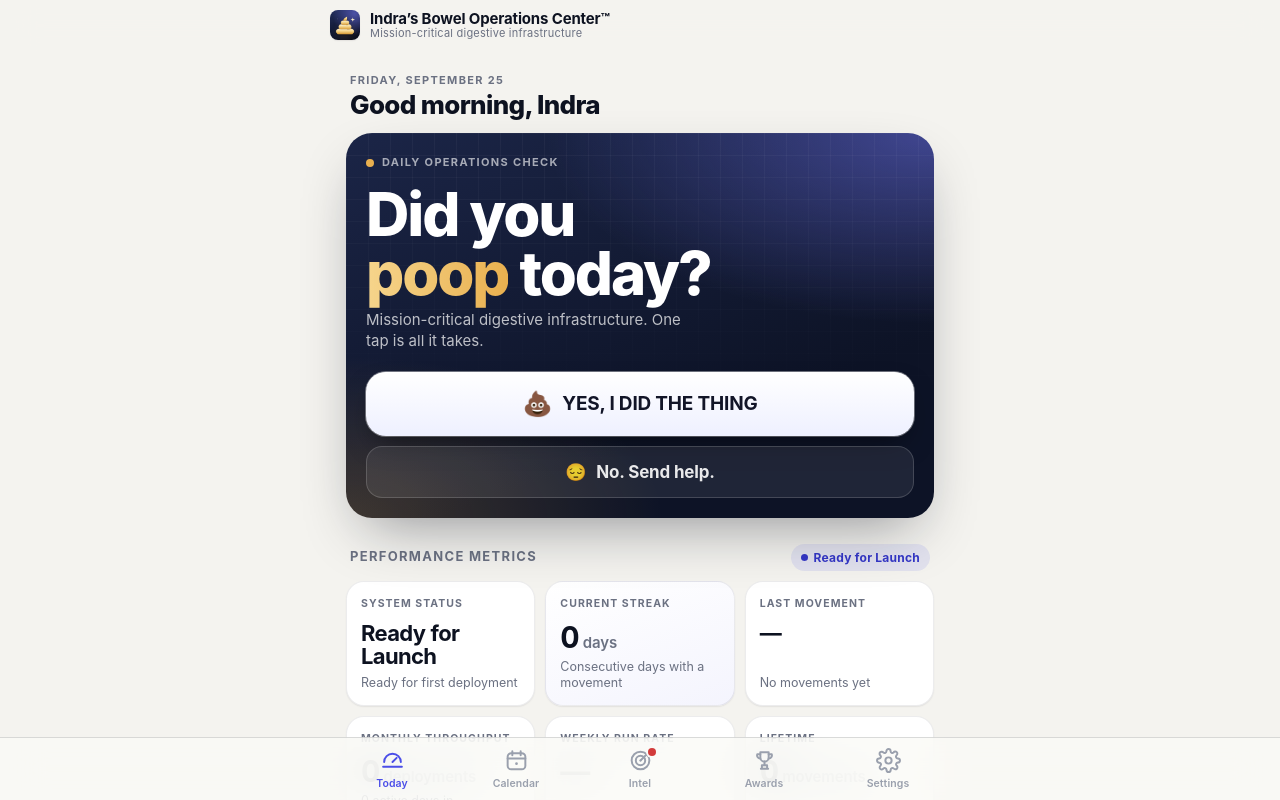
Test: Intel, Archive and Awards › shows the Intelligence Division briefing and the archive with classified entries
This screenshot has width=1280, height=800.
Click the button "💩 YES, I DID THE THING": coordinates (640, 404) [366,372,914,436]
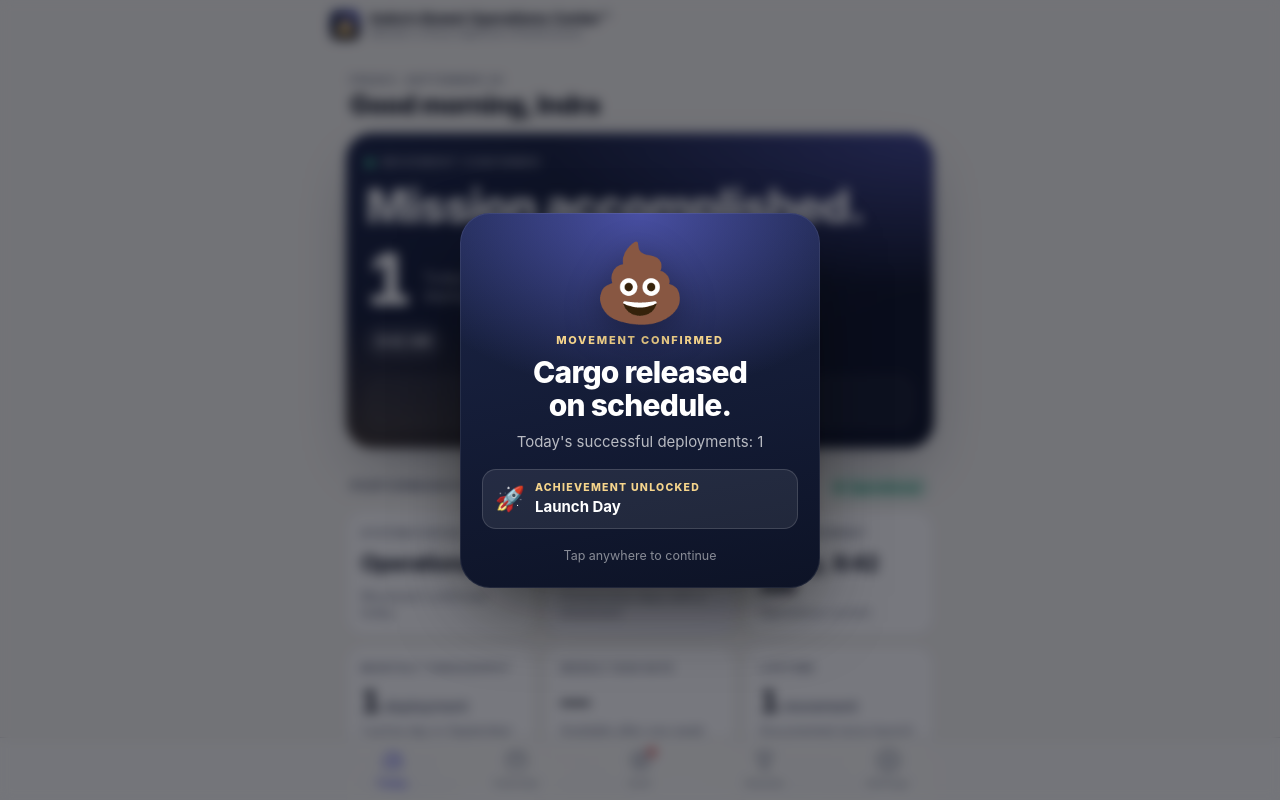
Click the dialog with class "celebrate": coordinates (77, 400) [0,0,1279,799]
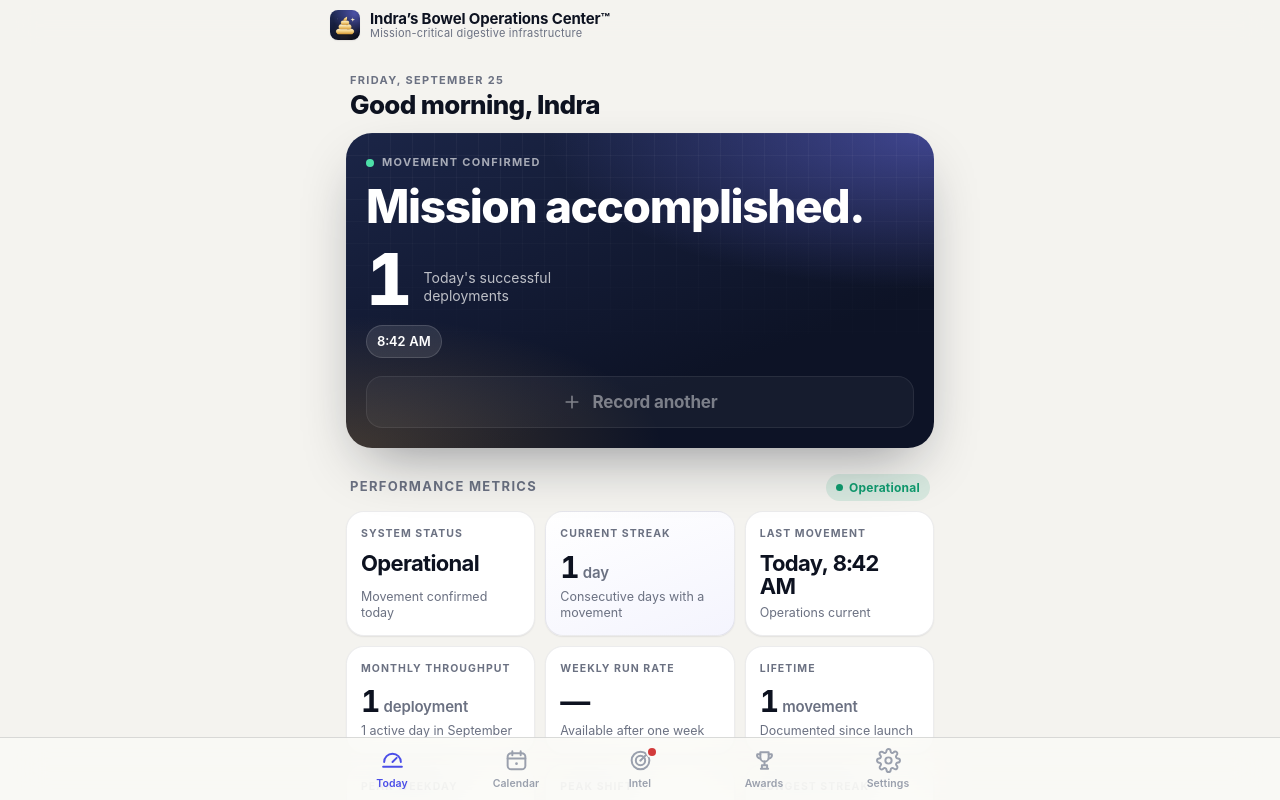
Click the button "Intel": coordinates (640, 769) [578,744,702,794]
(page scrolled)
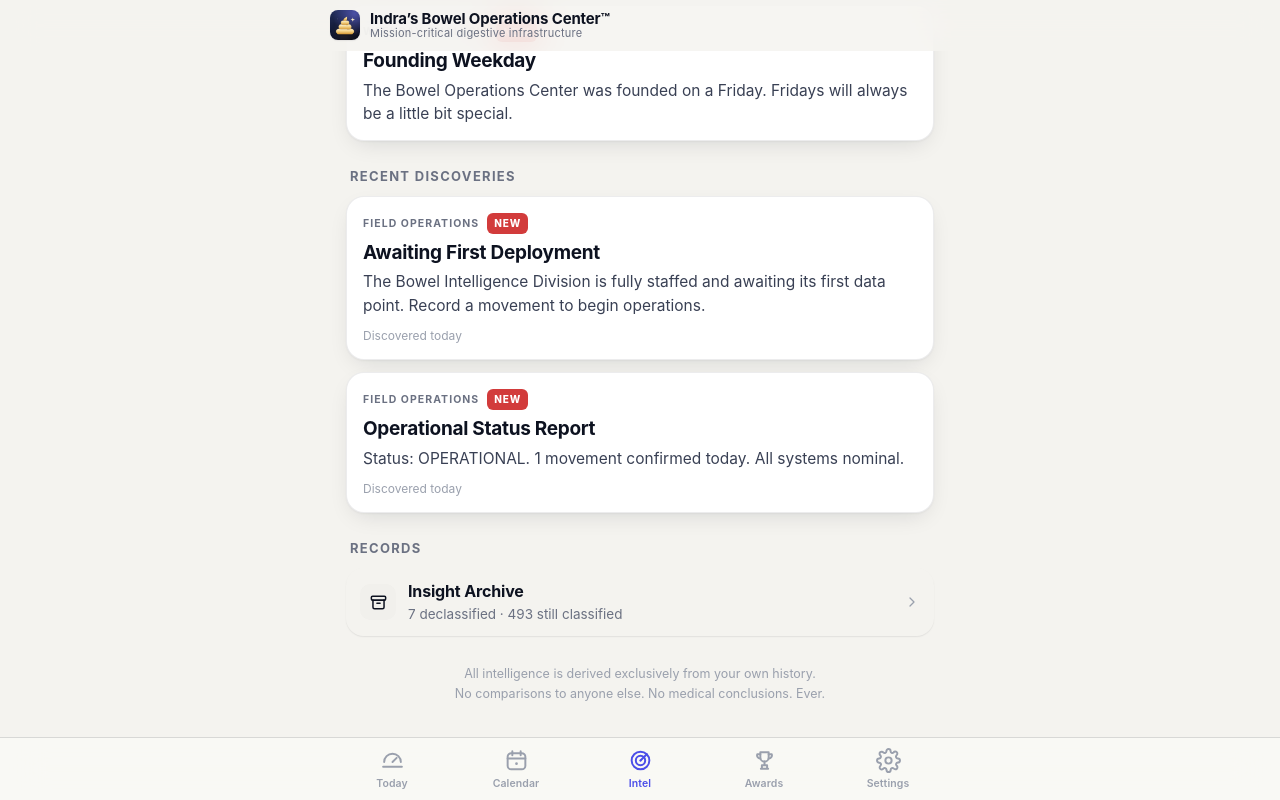
Click the button "Insight Archive 7 declassified · 493 still classified": coordinates (378, 602) [346,568,934,636]
(page scrolled)
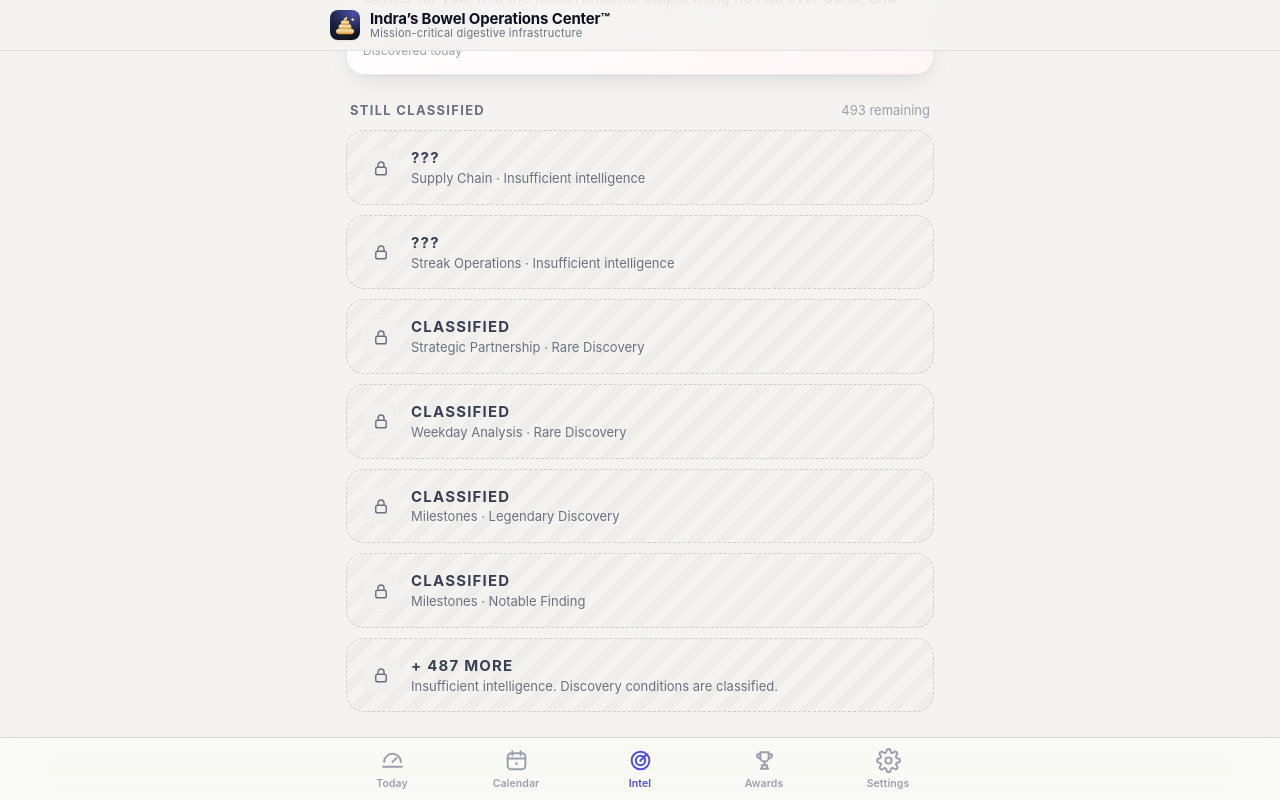
Now the 1st text "???" is shown, box [411,148,440,167]
Now the text "+ 487 MORE" is shown, box [411,656,513,675]
